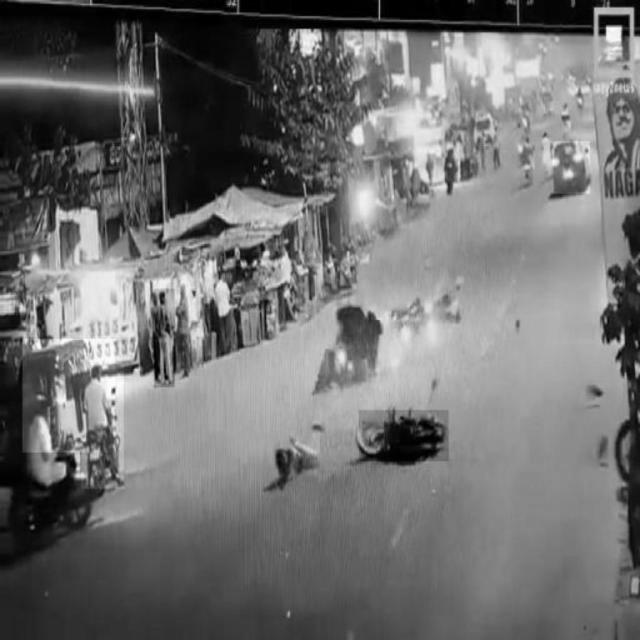person: (154, 289, 174, 387)
vehicle: (23, 339, 116, 452), (319, 304, 381, 390), (82, 363, 124, 489), (359, 411, 449, 462), (553, 142, 590, 194)
